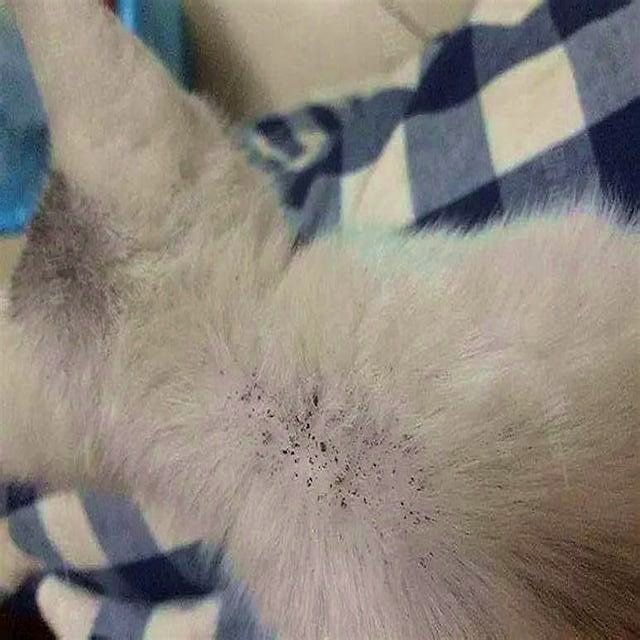acne: (228, 360, 445, 535)
